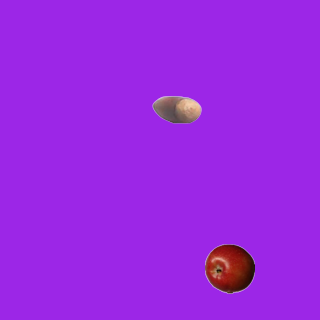Apple Braeburn: (204, 243, 254, 293)
Hazelnut: (151, 84, 201, 134)
